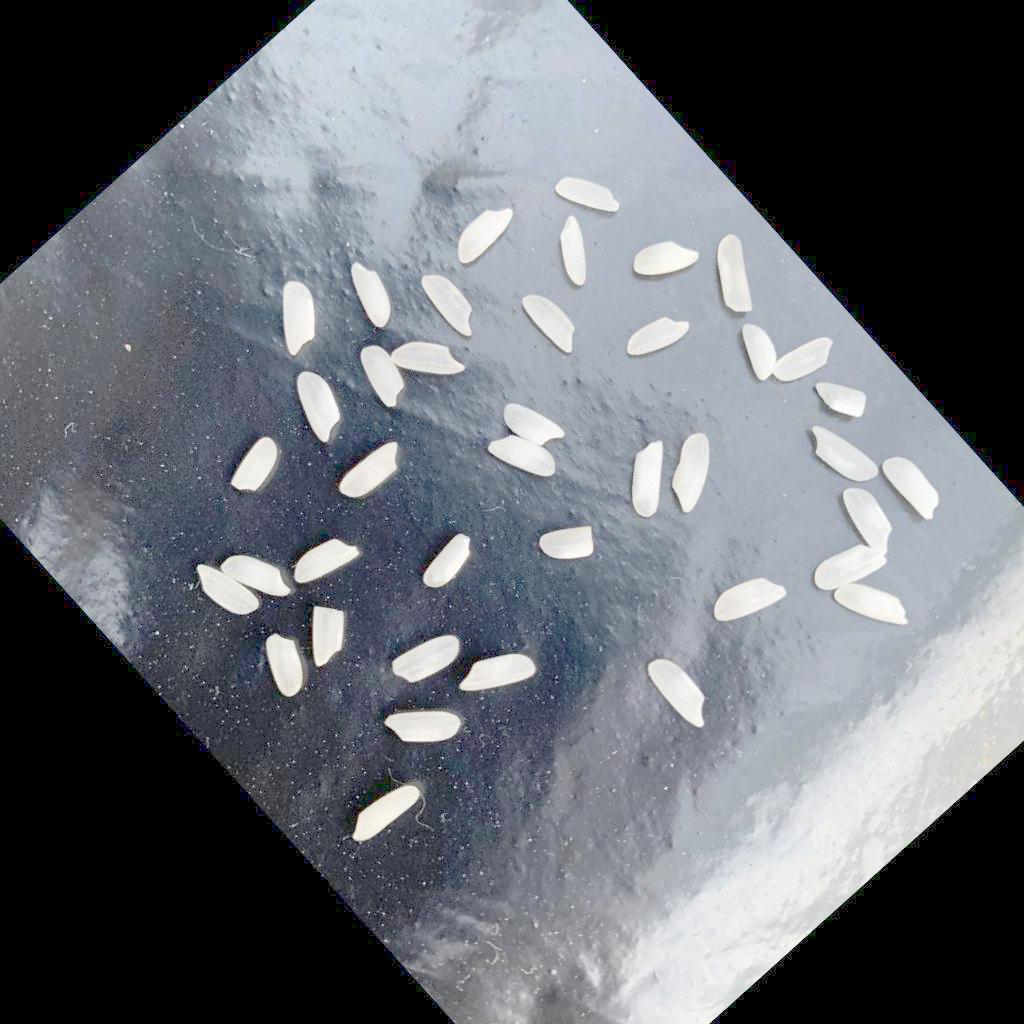rice: (691, 232, 781, 323), (650, 430, 738, 517), (609, 436, 696, 523), (832, 564, 918, 652), (455, 635, 541, 720), (383, 684, 468, 769), (807, 528, 891, 610), (802, 413, 883, 497), (255, 277, 337, 359), (707, 561, 790, 642), (643, 651, 721, 733), (279, 367, 357, 447), (392, 323, 470, 402), (389, 620, 469, 697), (346, 776, 426, 852), (833, 480, 909, 559), (220, 541, 296, 619), (486, 419, 562, 497), (288, 526, 365, 600), (190, 552, 264, 628), (415, 265, 488, 342), (540, 215, 614, 290), (288, 597, 362, 671), (879, 449, 951, 525), (446, 198, 522, 270), (628, 225, 702, 298), (336, 437, 411, 509), (517, 285, 589, 360), (337, 258, 409, 332), (250, 629, 322, 702), (553, 162, 625, 235), (769, 326, 842, 397), (497, 388, 568, 461), (535, 509, 607, 580), (348, 342, 418, 414), (622, 303, 694, 373), (812, 364, 878, 431), (416, 531, 484, 596), (225, 436, 292, 501), (727, 320, 791, 386)
